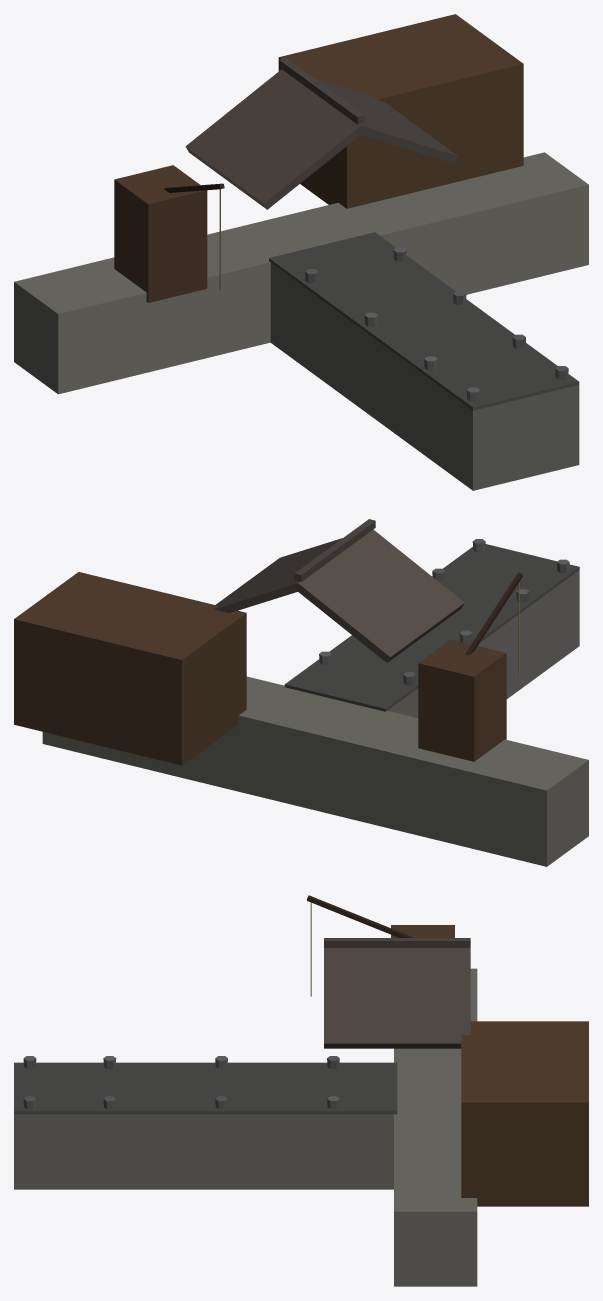
Rendered from harbour_quay.glb.
The picture shows the model from 3 angles, top to bottom: view 1: azimuth 30°, elevation 25°; view 2: azimuth 150°, elevation 25°; view 3: azimuth 270°, elevation 25°; orthographic projection. The views are drawn at different scales.
Visible parts, largest first — view 1: harbour_quay; view 2: harbour_quay; view 3: harbour_quay.
Part boxes in pixels (<box>): harbour_quay: <box>14,14,588,490</box>; harbour_quay: <box>14,519,588,866</box>; harbour_quay: <box>14,895,588,1286</box>.
Size of the model in its own units: 18 by 7.8 by 18.
2 materials, 2 textured.
